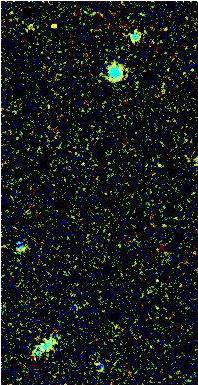star: (38, 9, 68, 39)
